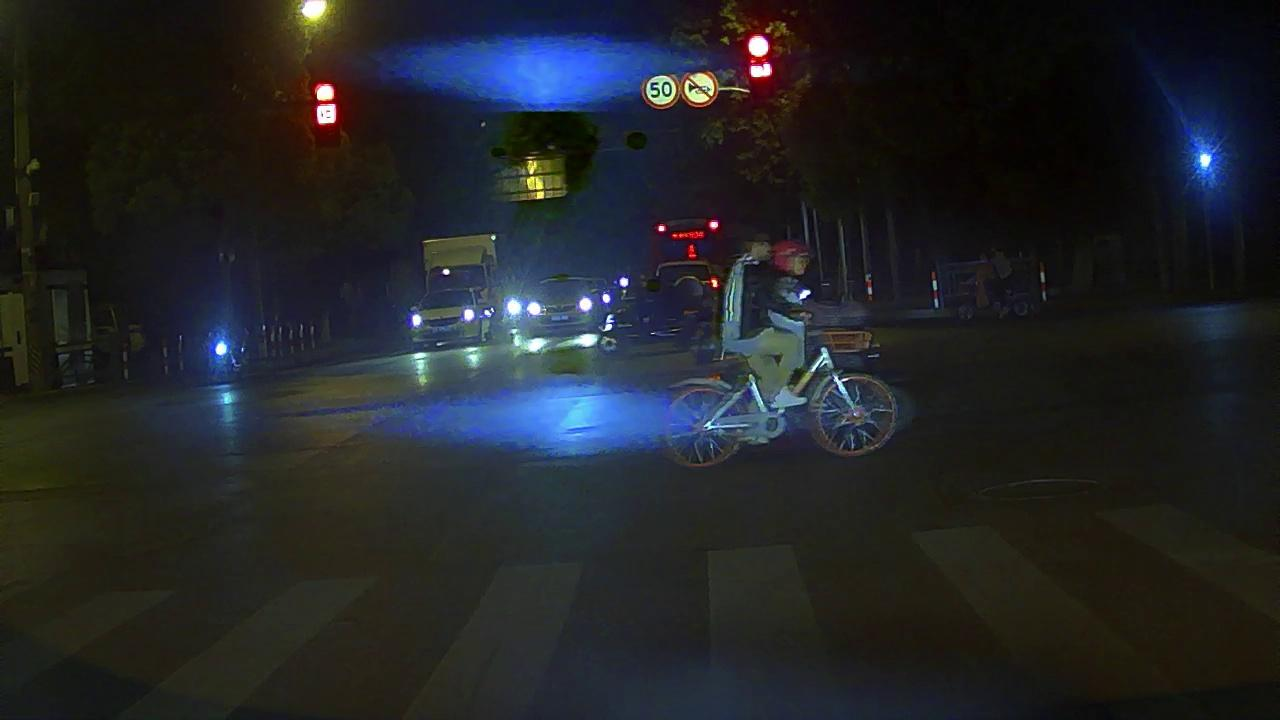traffic_light: (744, 33, 773, 103), (312, 79, 341, 143)
